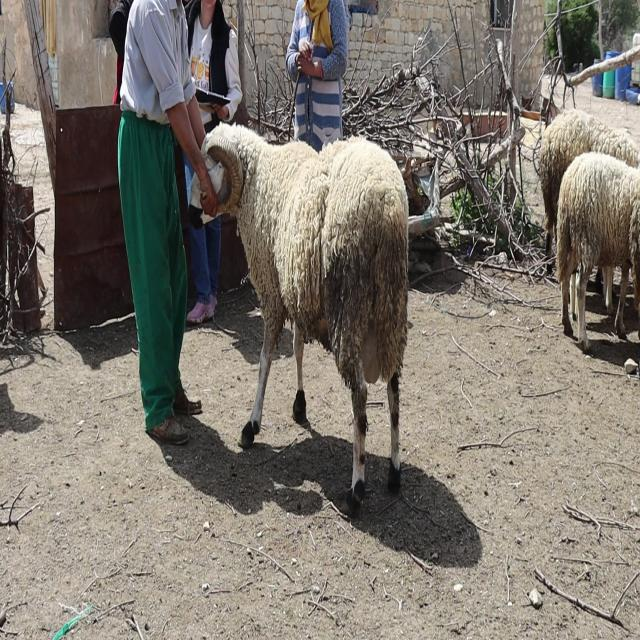Score_5: (201, 123, 408, 516)
